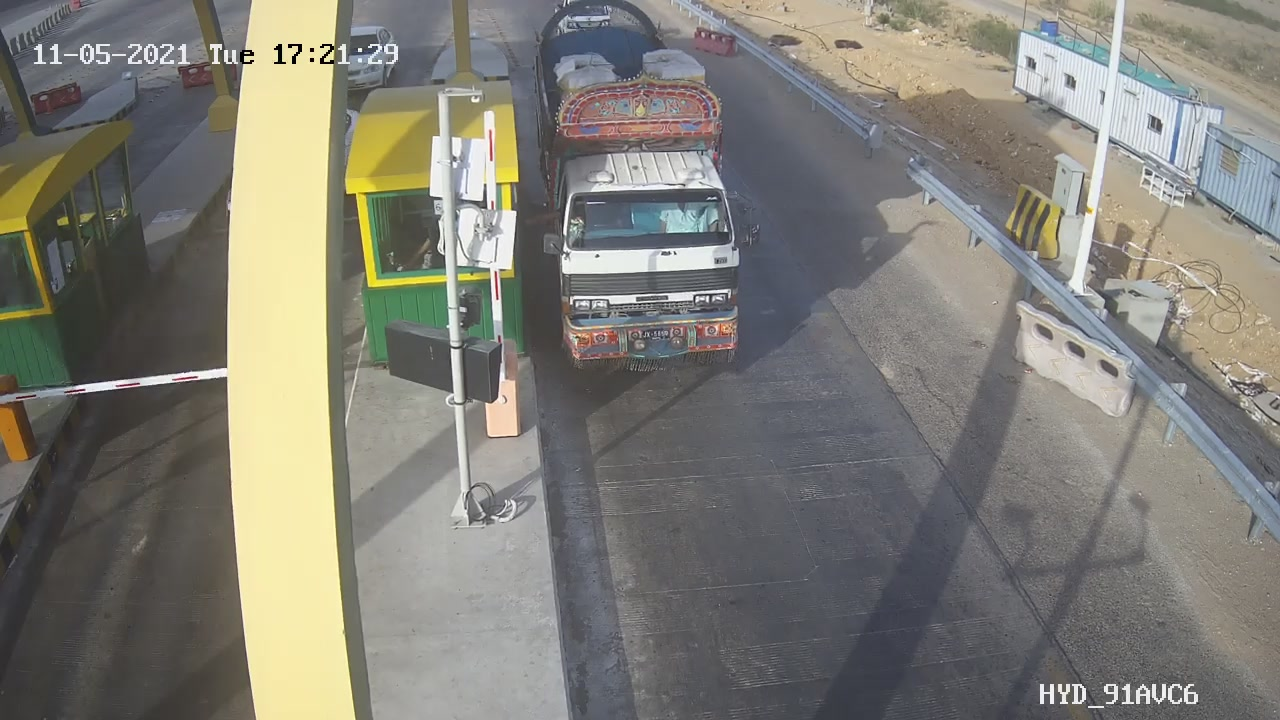F5: (517, 1, 778, 395)
